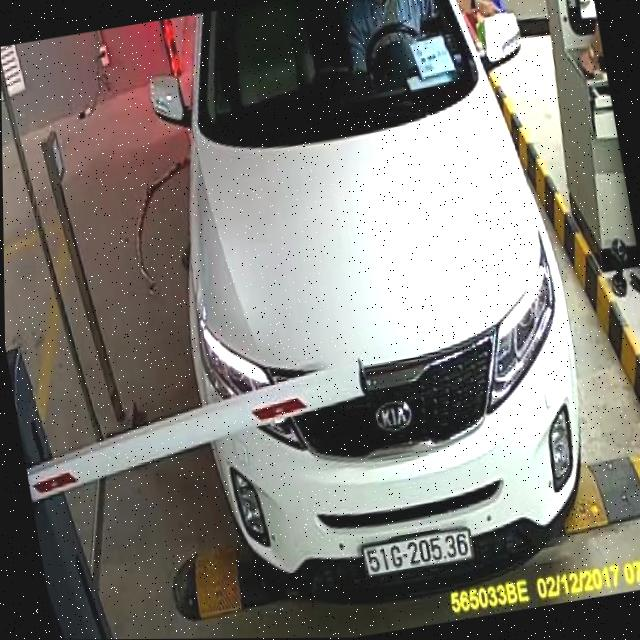car: (131, 0, 620, 626)
plate: (355, 520, 481, 584)
